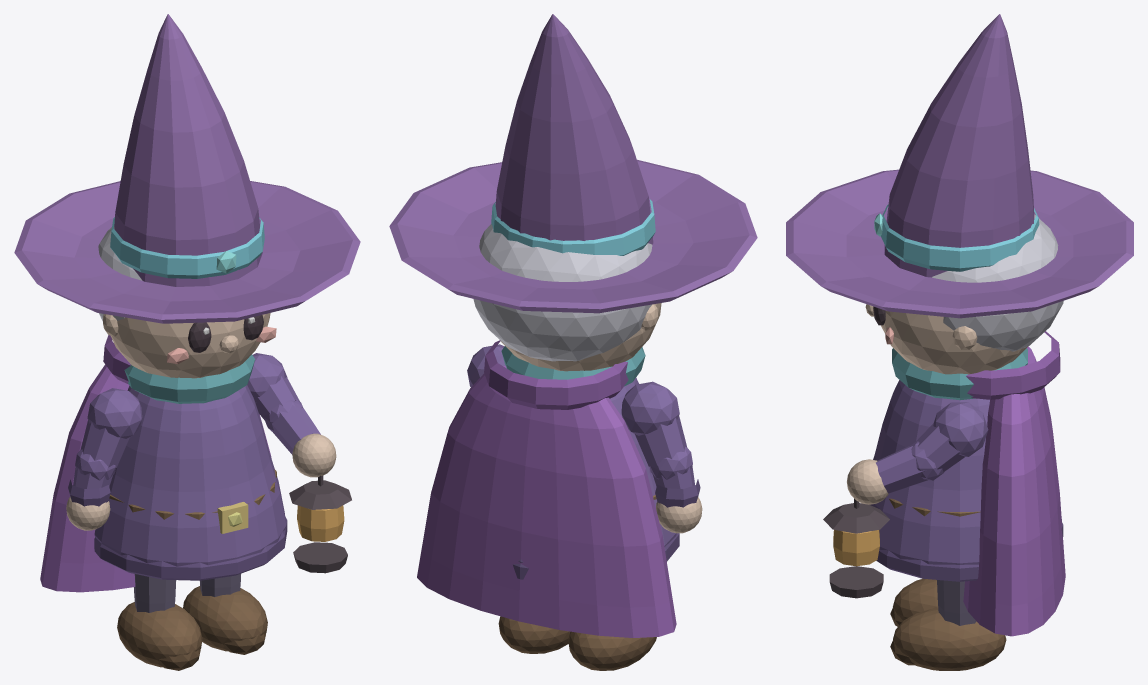
File: hero_ash.glb
3 renders of one model, left to right at view 1: azimuth 30°, elevation 25°; view 2: azimuth 150°, elevation 25°; view 3: azimuth 270°, elevation 25°, orthographic. The views are drawn at different scales.
Visible parts, largest first — view 1: hero_ash; view 2: hero_ash; view 3: hero_ash.
Boxes of the visible parts, left/top/right/bottom form: hero_ash: left=14, top=14, right=360, bottom=670; hero_ash: left=389, top=14, right=757, bottom=670; hero_ash: left=786, top=14, right=1133, bottom=670.
Size of the model in its own units: 1.38 by 2.7 by 1.35.
